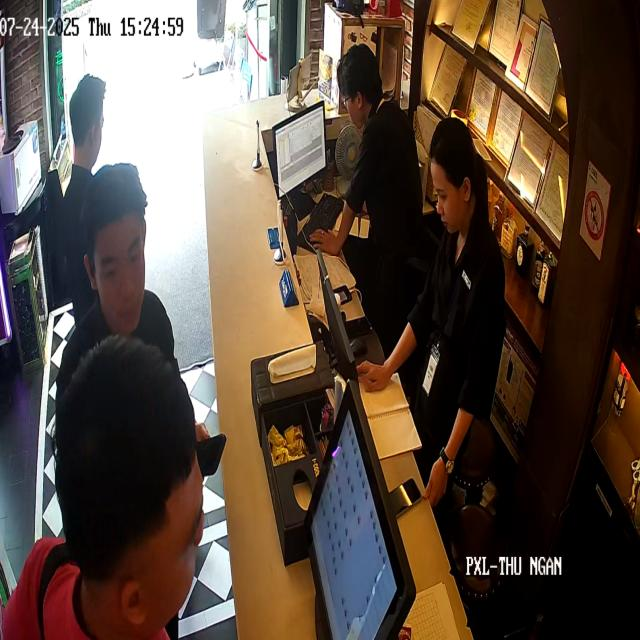khach: (64, 320, 216, 636)
nhan vien: (425, 109, 519, 489), (339, 23, 412, 302), (94, 182, 191, 367), (61, 56, 128, 186)
